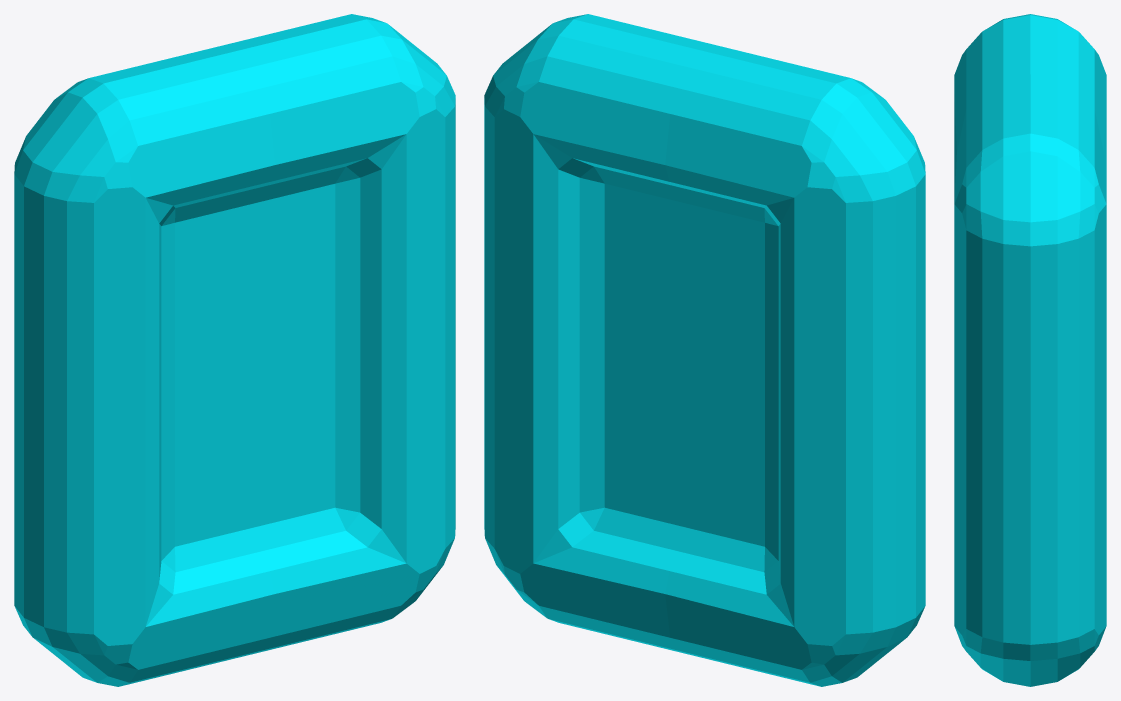
File: turmaline.glb
3 views of the same model, side by side, from view 1: azimuth 30°, elevation 25°; view 2: azimuth 150°, elevation 25°; view 3: azimuth 270°, elevation 25° (orthographic). The views are drawn at different scales.
Parts seen in each view (by area): view 1: Turmalina.001; view 2: Turmalina.001; view 3: Turmalina.001.
Boxes of the visible parts, bbox=[...] form: Turmalina.001: bbox=[14, 14, 455, 686]; Turmalina.001: bbox=[484, 14, 925, 686]; Turmalina.001: bbox=[954, 14, 1106, 686].
Bounding box in the file's own units: 0.5909 × 0.8 × 0.1995.
